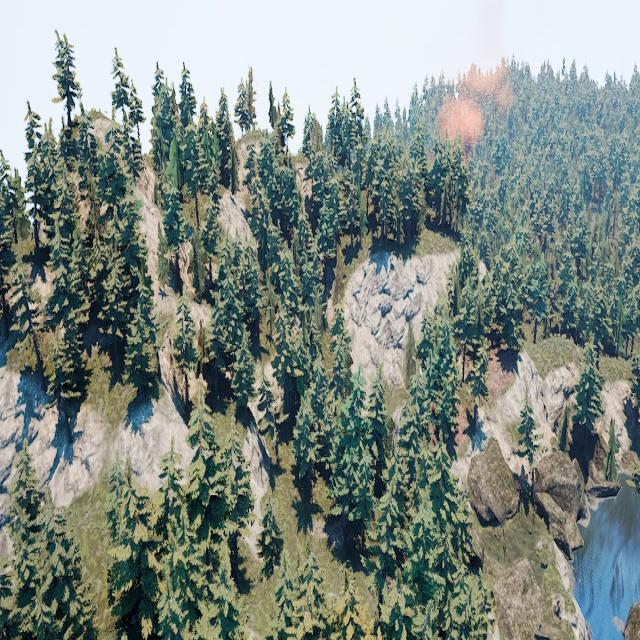smoke: (438, 58, 512, 149)
